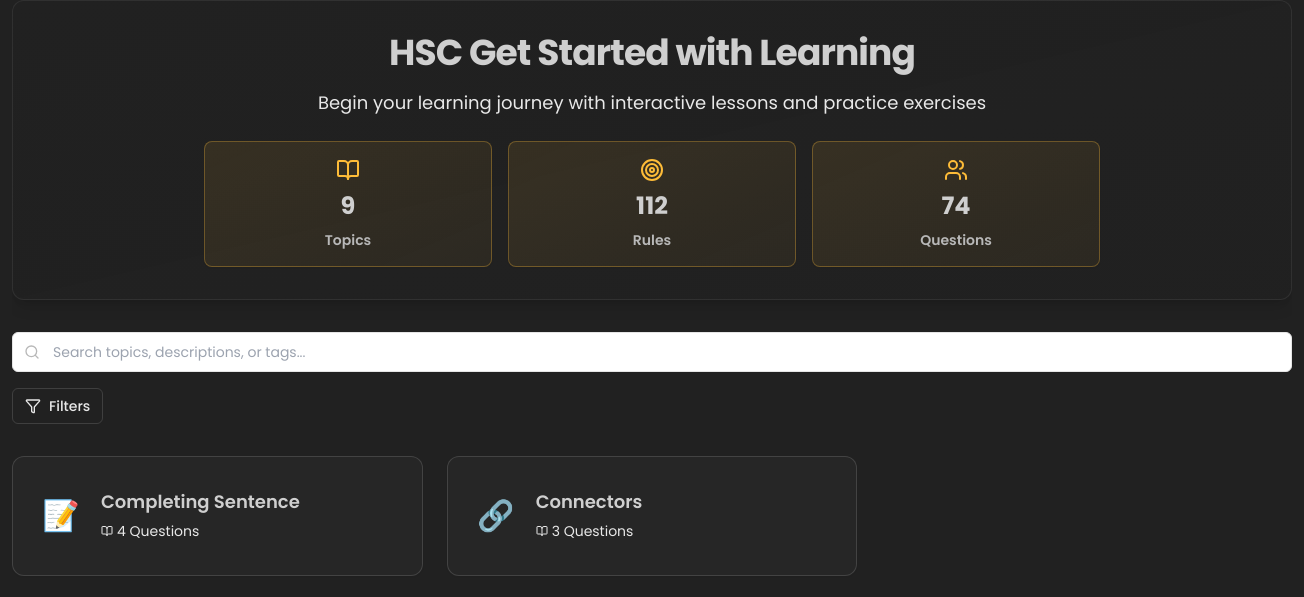
Test: UniversalTopicNavigation › shows simplified filters without difficulty options
// Open filters panel
Click the button "Filters" at (58, 406), box [12, 388, 103, 424]
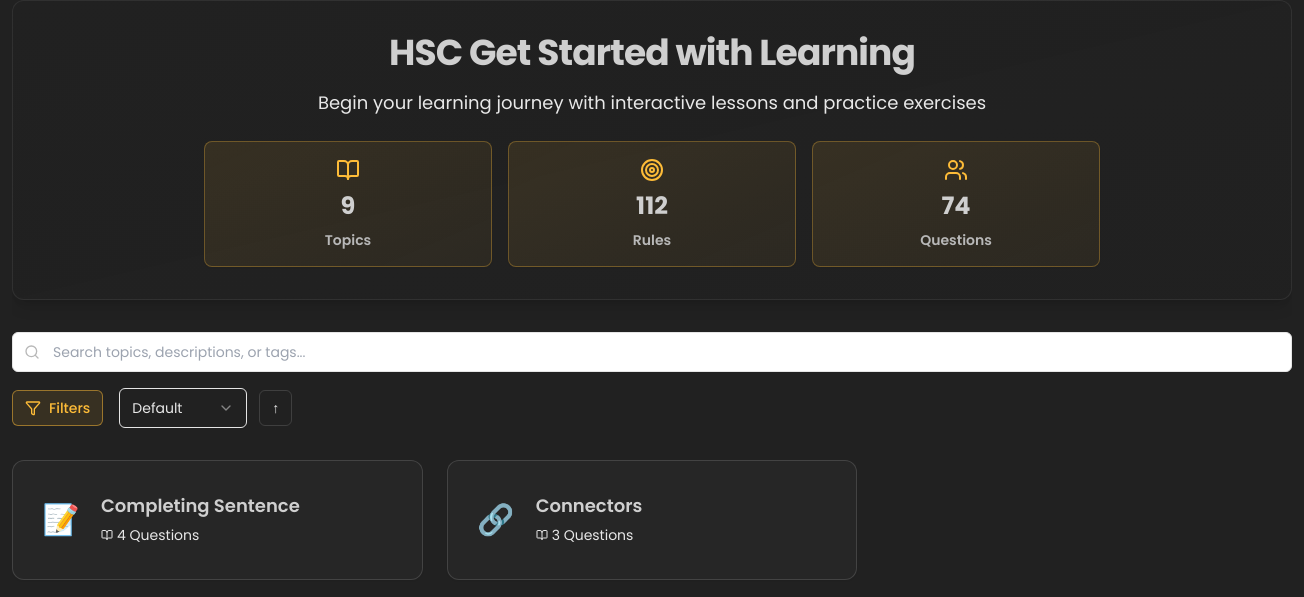
Expected: the text "Default" is shown, [132, 398, 182, 418]
